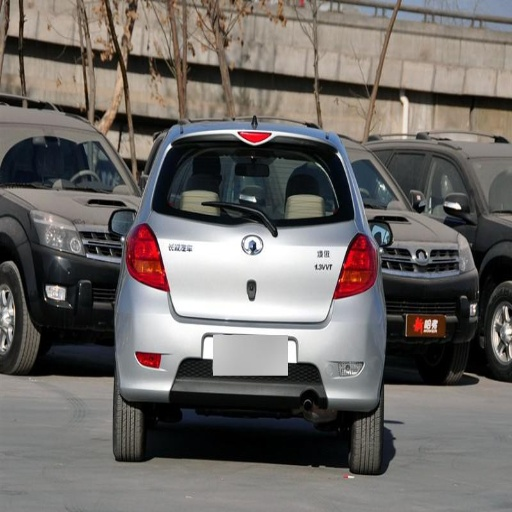back_bumper: (114, 280, 386, 415)
back_left_light: (123, 223, 169, 291)
back_right_light: (335, 236, 377, 297)
tailgate: (150, 221, 225, 317)
trunk: (151, 213, 357, 322)
